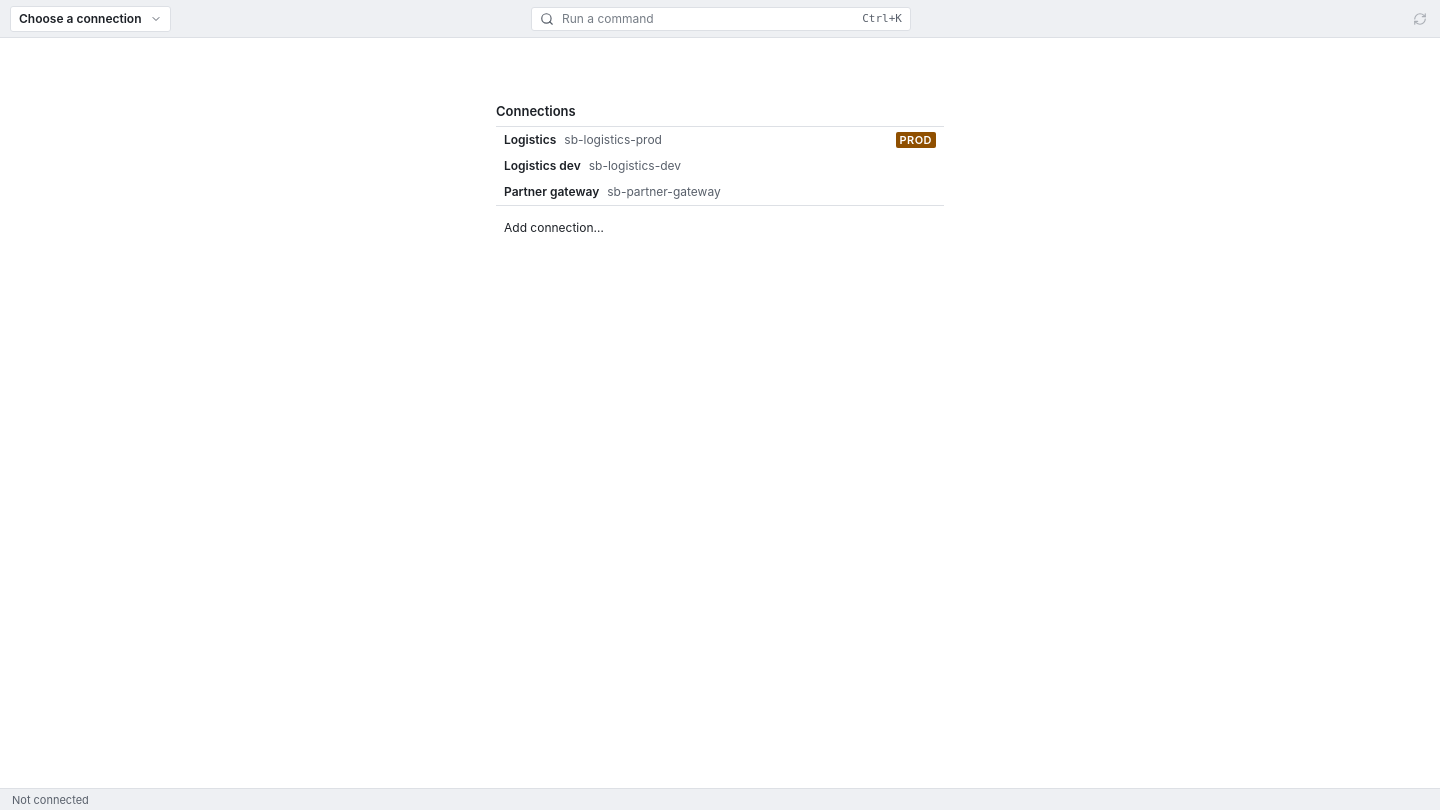
Test: ProfileSheet › keeps the profile when the delete confirmation is declined
Click the button with aria-label "Connection: Choose a connection" at (90, 18), box [10,6,170,32]
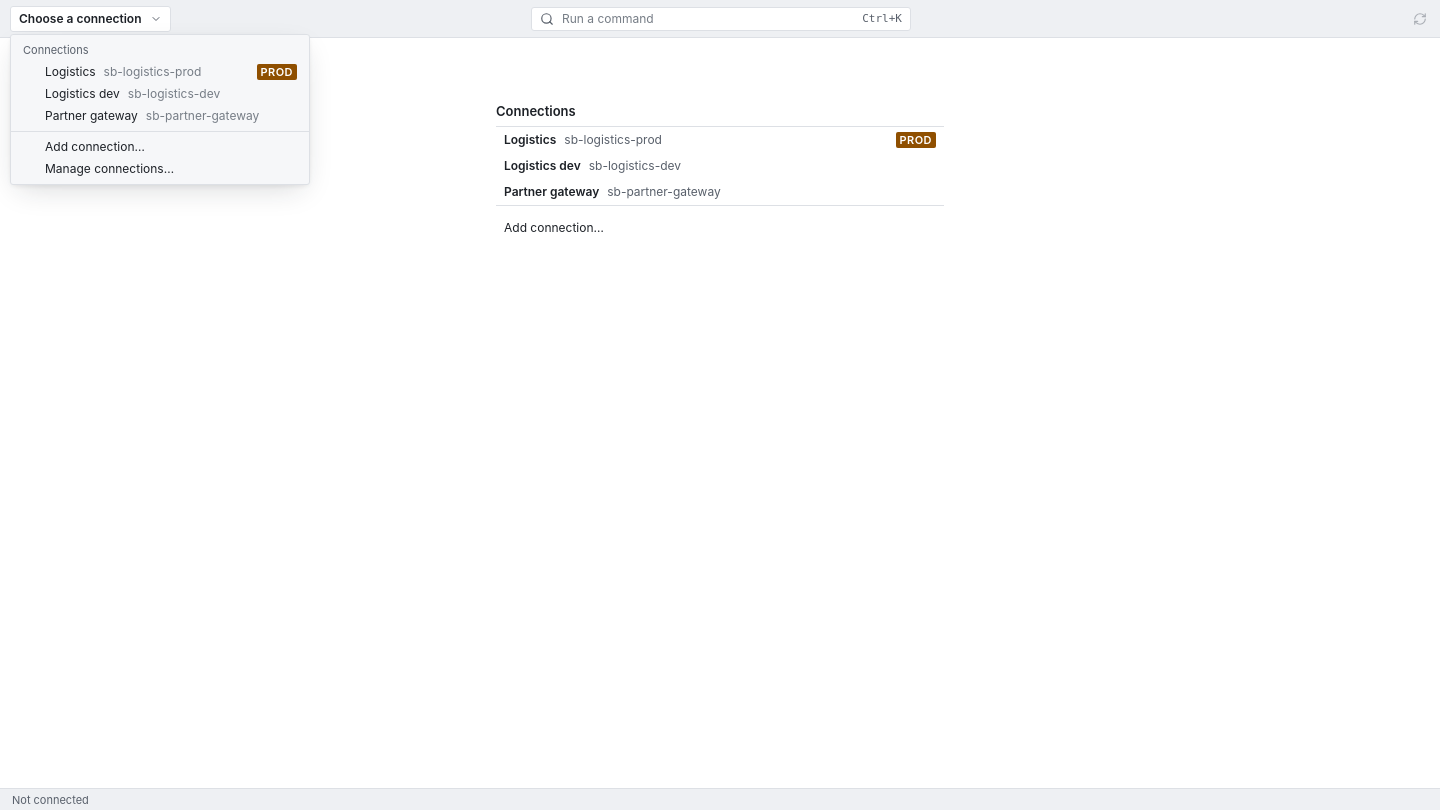
Click the menu item "Manage connections…" at (110, 168), box [45,161,174,176]
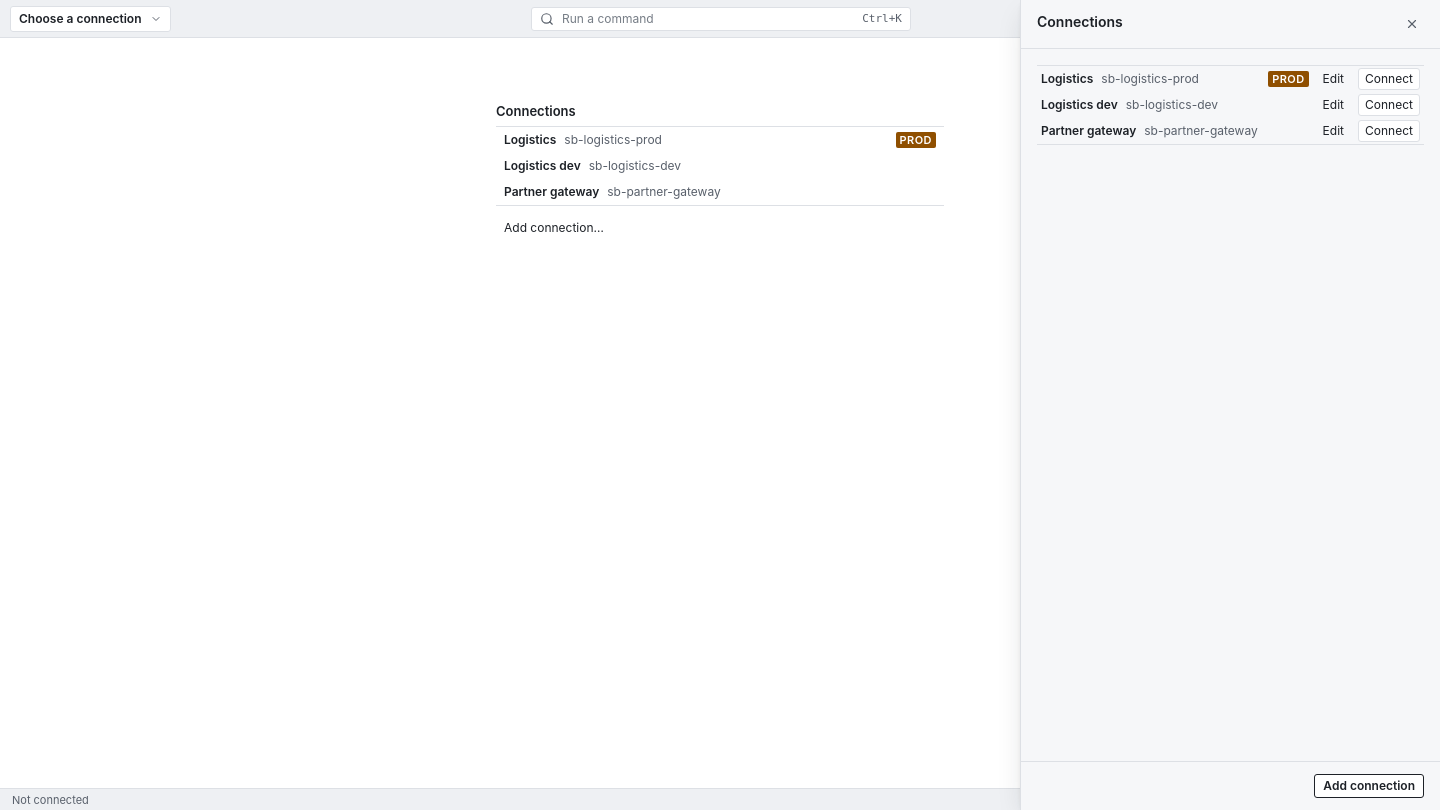
Click the button with aria-label "Edit Logistics" at (1333, 79), box [1317,68,1350,90]
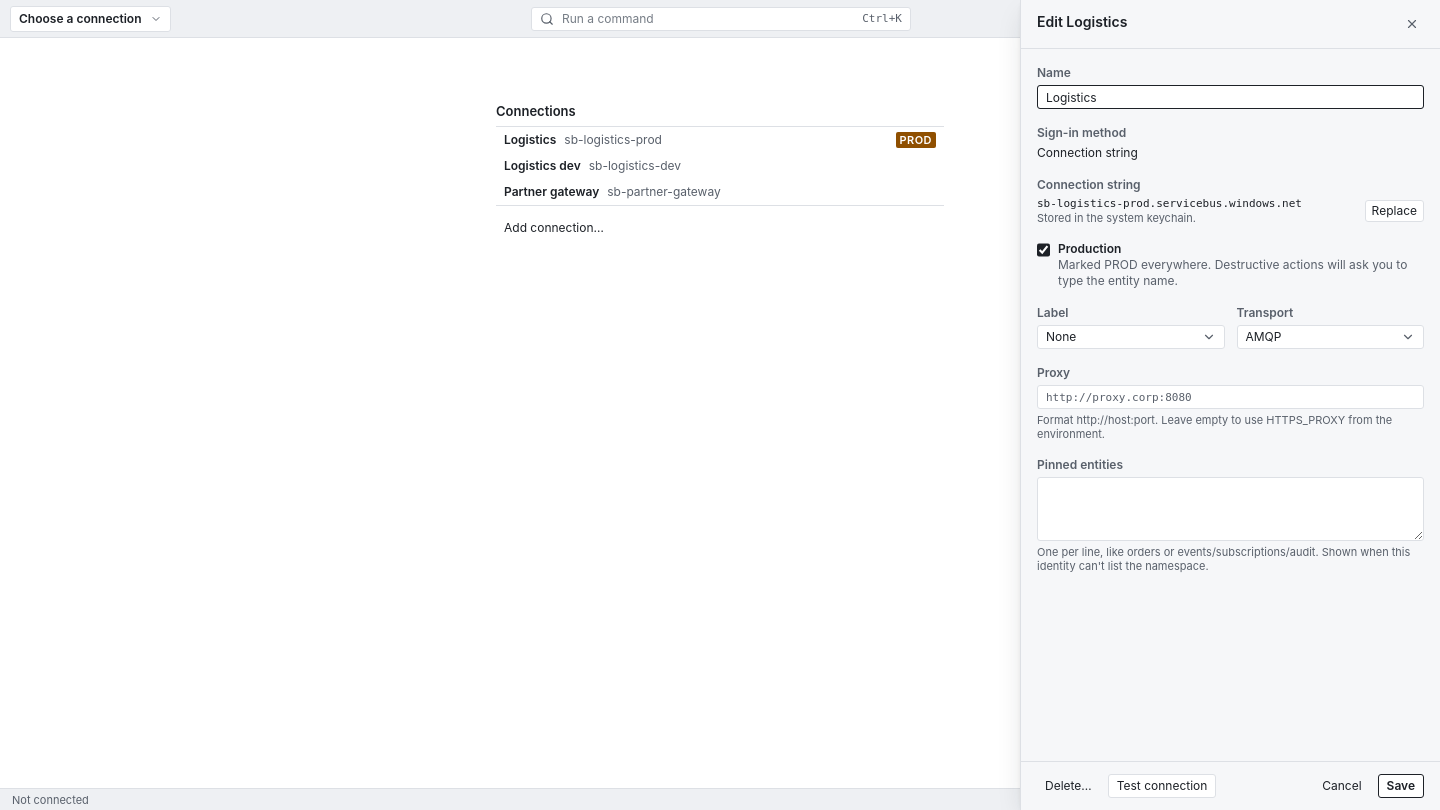
Click the button "Delete…" at (1068, 786), box [1037,774,1100,798]
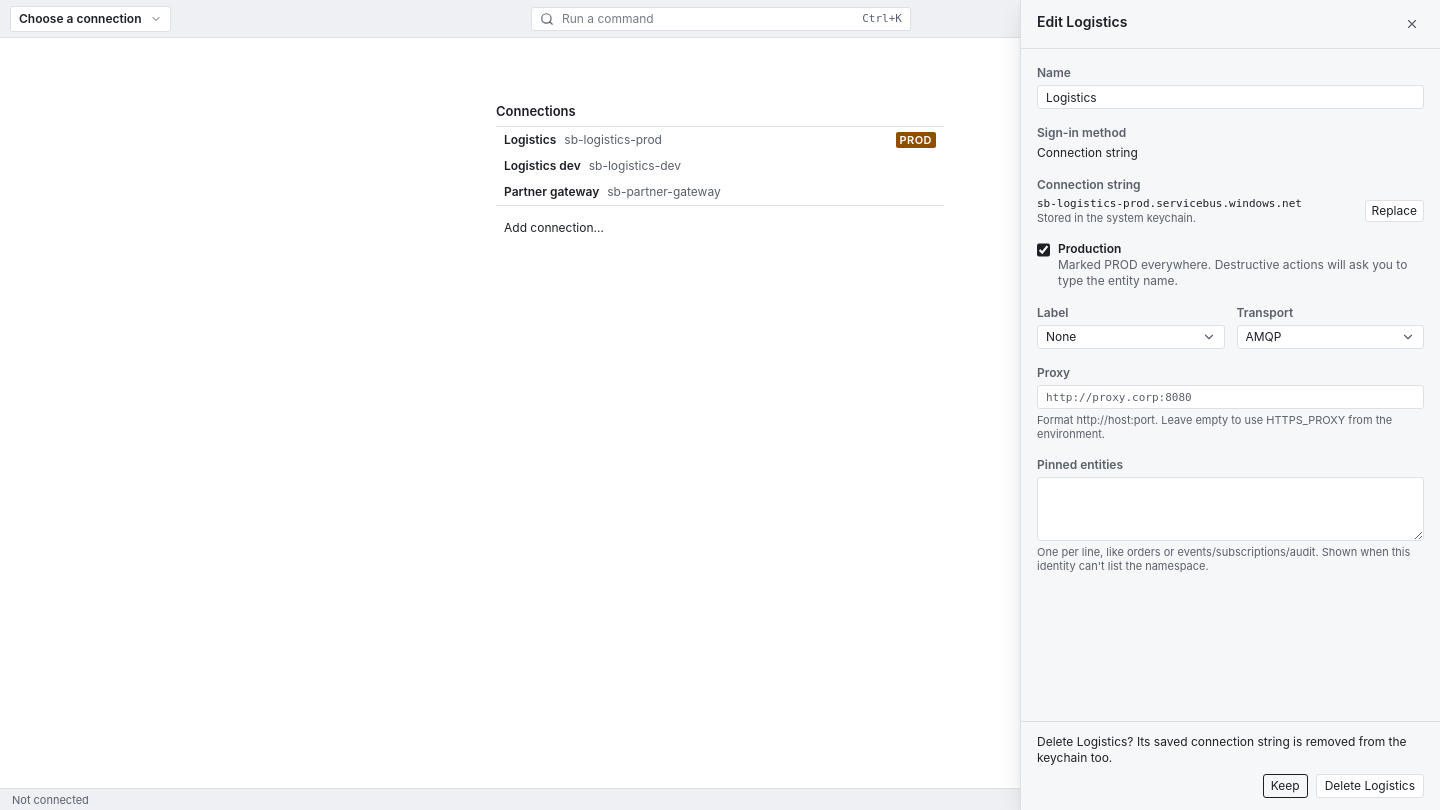
Expected: the text "Its saved connection string is removed from the keychain too" is shown, [1037,734,1407,765]
Click the button "Keep" at (1285, 786), box [1263,774,1308,798]
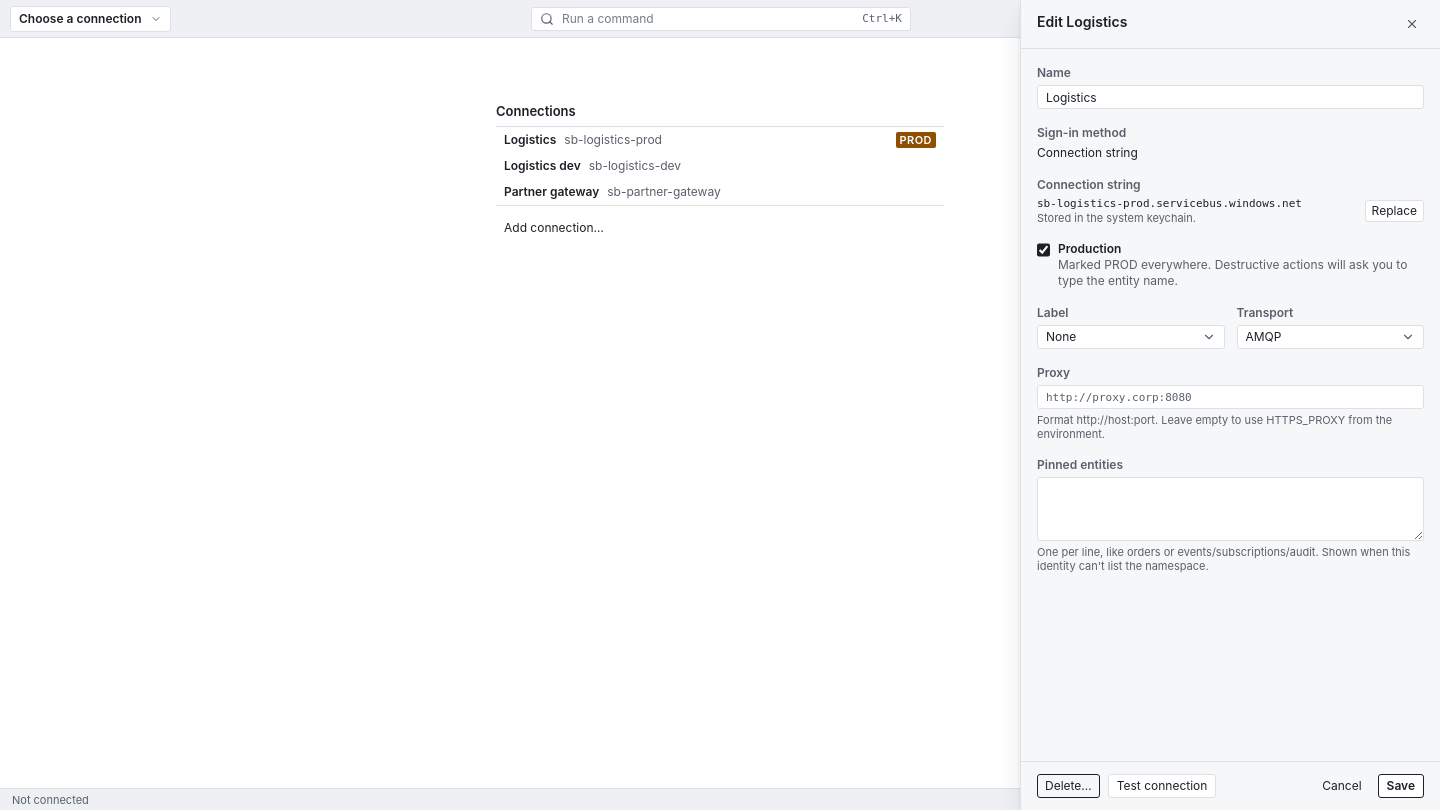
Expected: the button "Delete…" is shown, [1037,774,1100,798]
